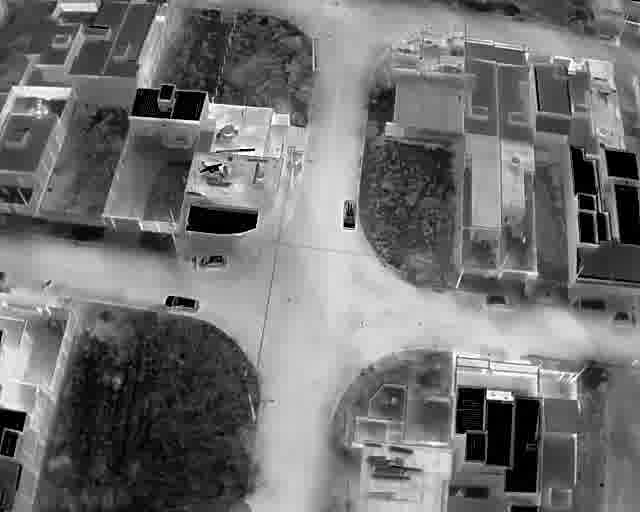car: (191, 252, 228, 272), (164, 295, 200, 313), (341, 198, 358, 231), (484, 292, 515, 308), (611, 310, 637, 324)
motorcycle: (41, 279, 53, 289)
